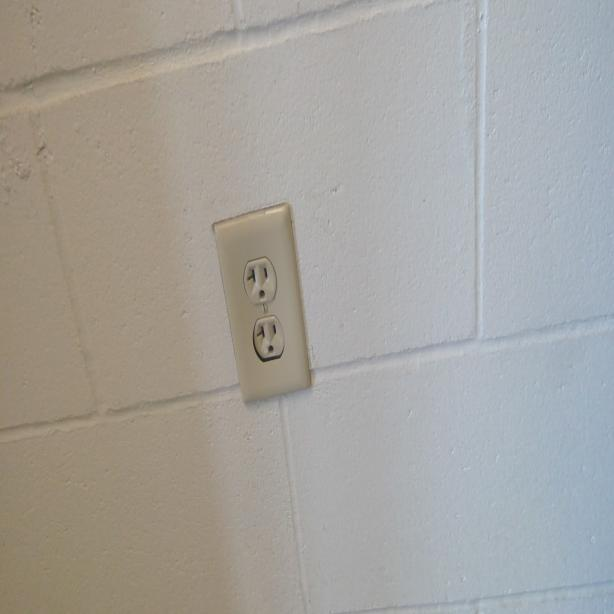typeb: (243, 256, 275, 301), (254, 317, 285, 362)
